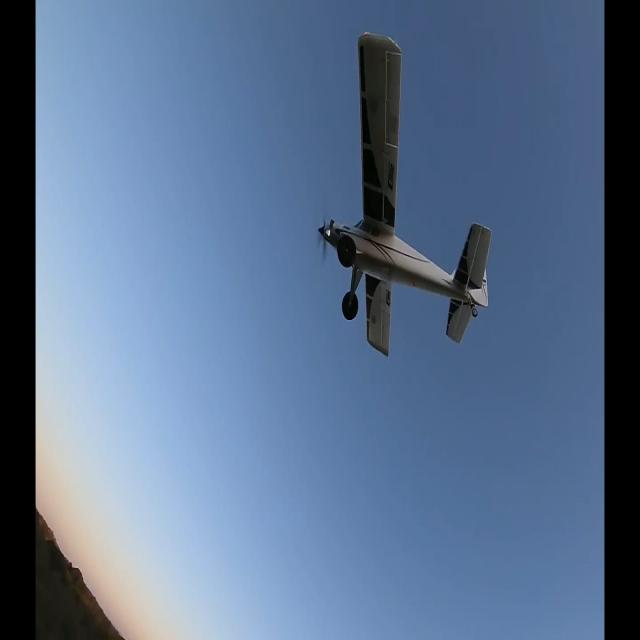iha: (317, 28, 492, 364)
